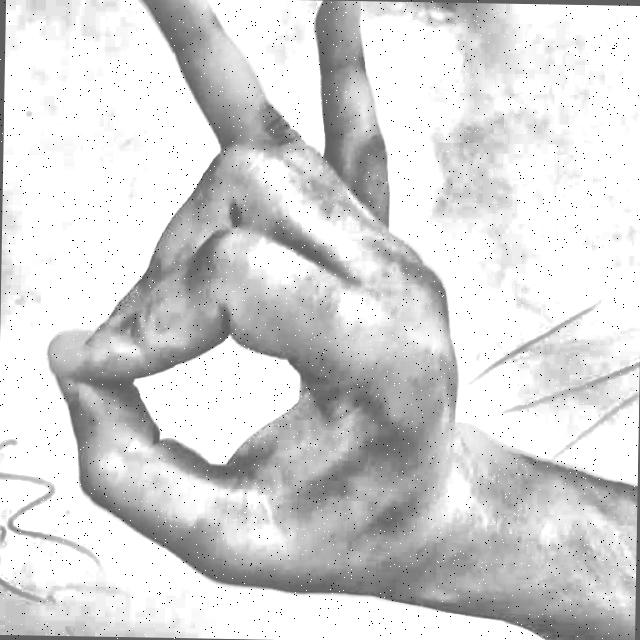Na: (7, 0, 521, 634)
